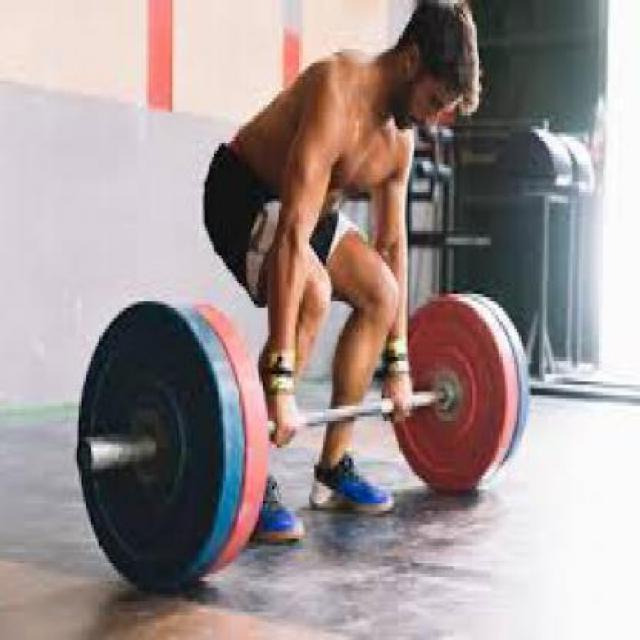Barbell: (70, 426, 102, 479)
